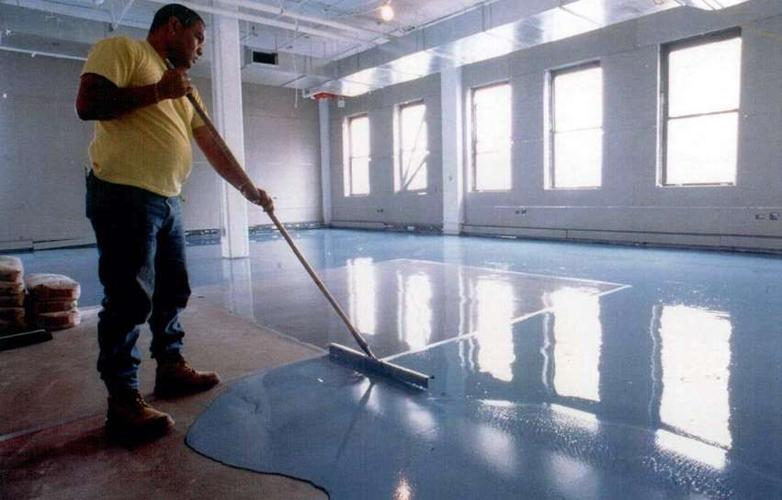person: (74, 4, 275, 439)
